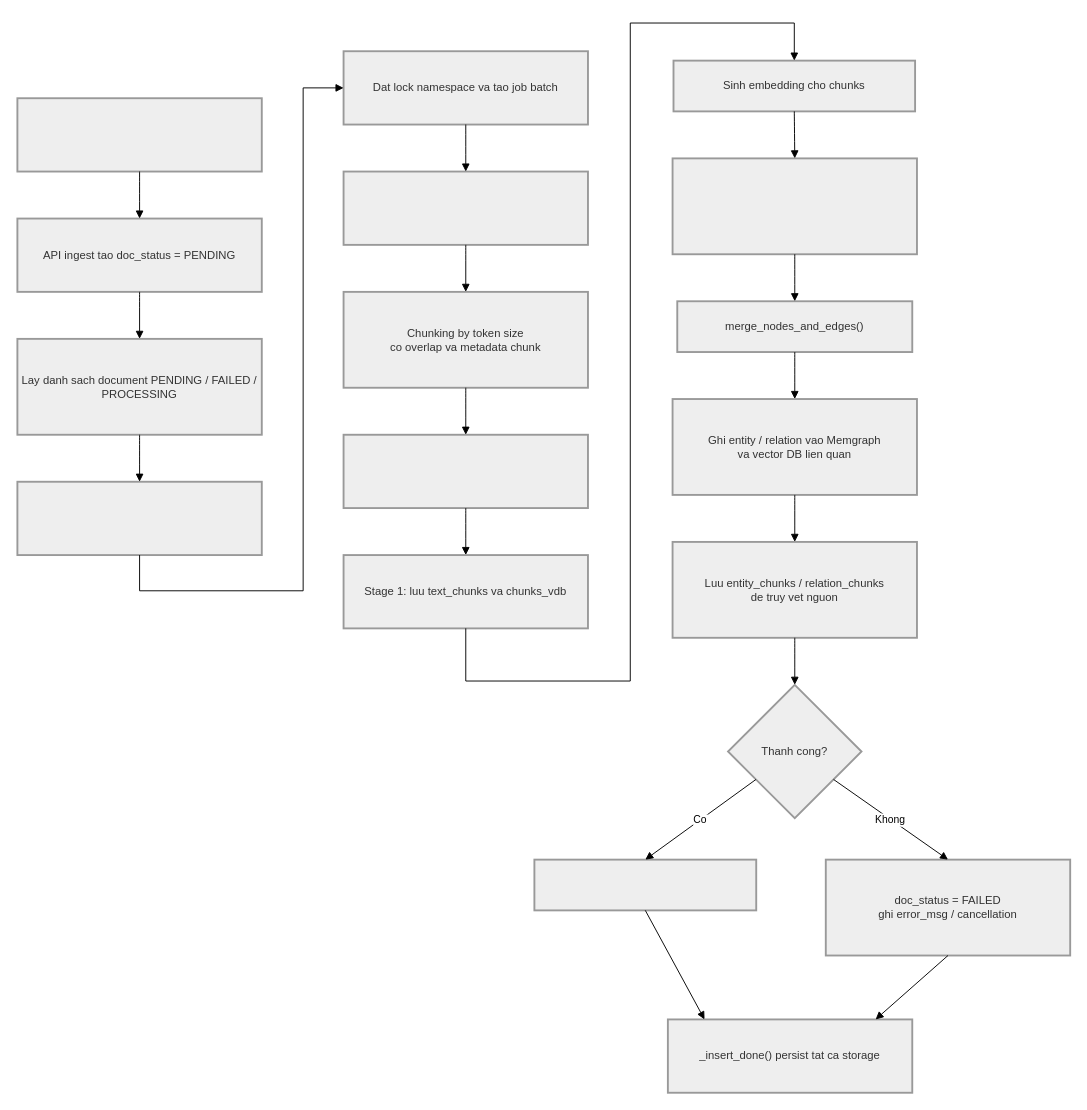
Some shapes in this 1087 by 1110 pixel diagram are drawn without their labels. Each missing label, with the centre of its shape:
Admin upload / scan / reprocess document: point (139, 134)
Cap nhat doc_status = PROCESSING: point (465, 471)
doc_status = PROCESSED: point (645, 884)
Kiem tra tinh nhat quan full_docs va doc_status: point (139, 518)
Stage 2: extract_entities() bang LLM co llm_response_cache: point (794, 206)
Xu ly tung document voi max_parallel_insert: point (465, 207)
